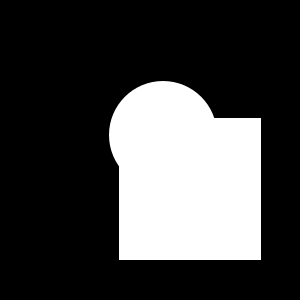circle: (119, 118, 261, 260)
rectangle: (109, 81, 217, 189), (134, 108, 178, 153)
